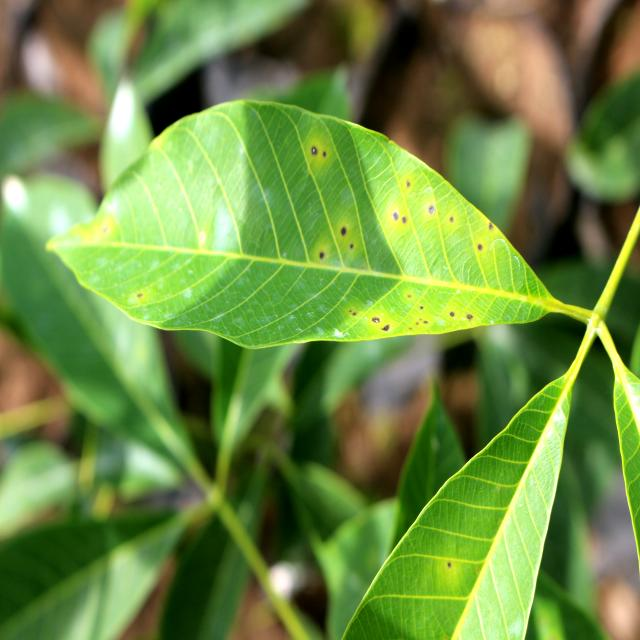Colletotrichum: (311, 147, 317, 154), (393, 212, 398, 220), (383, 324, 389, 330), (341, 228, 346, 235), (430, 206, 434, 214), (320, 252, 324, 259), (467, 314, 472, 319), (478, 244, 482, 250), (450, 312, 455, 316), (402, 217, 406, 222), (489, 224, 493, 229)
